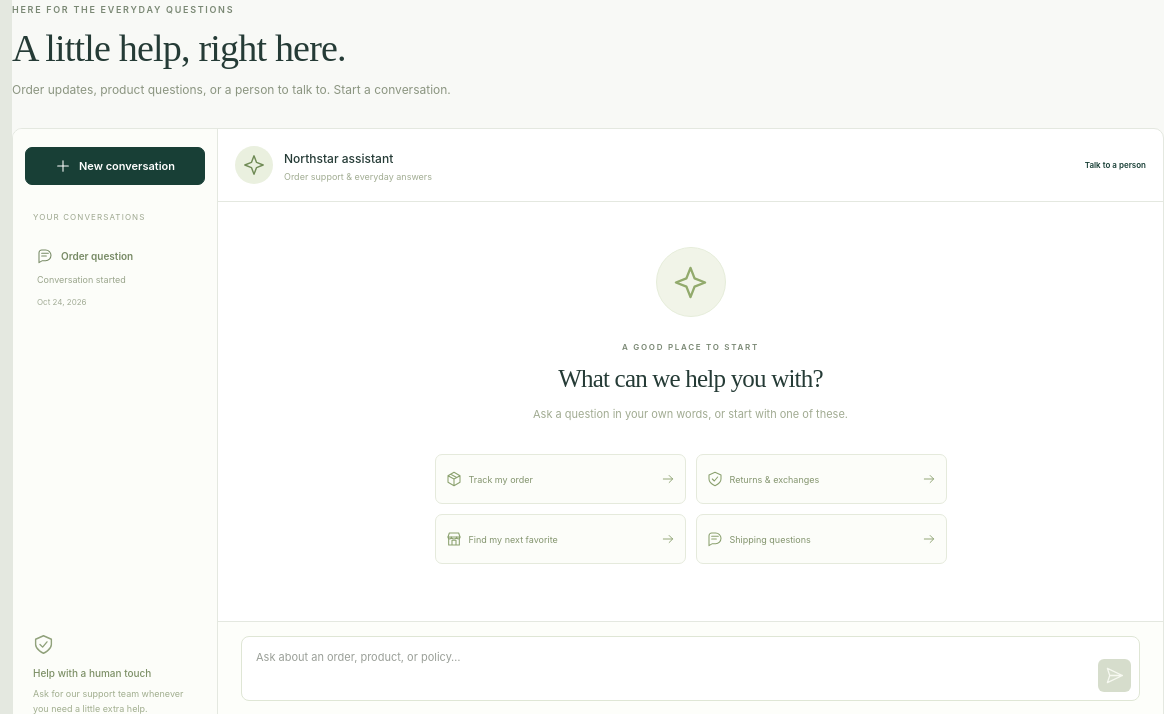
it: support conversation reliability › prevents new messages in a closed conversation and points to a new one
Click the button "Order question Conversation started Oct 24, 2026" at (115,277), box [25,234,205,321]
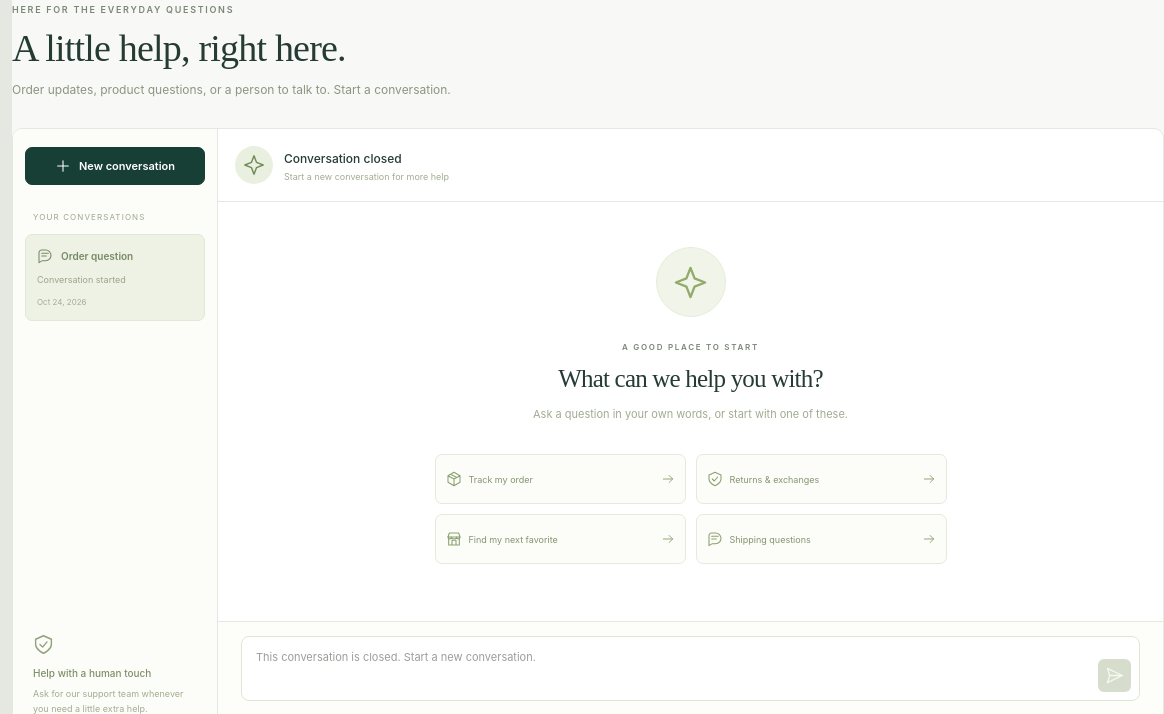
Check: the text "Conversation closed" is shown, box [284,151,402,166]
Check: the text box named "Message" is disabled, box [241,636,1140,701]
Check: the button "Talk to a person" is gone
Click the button "New conversation" at (115,166), box [25,147,205,185]
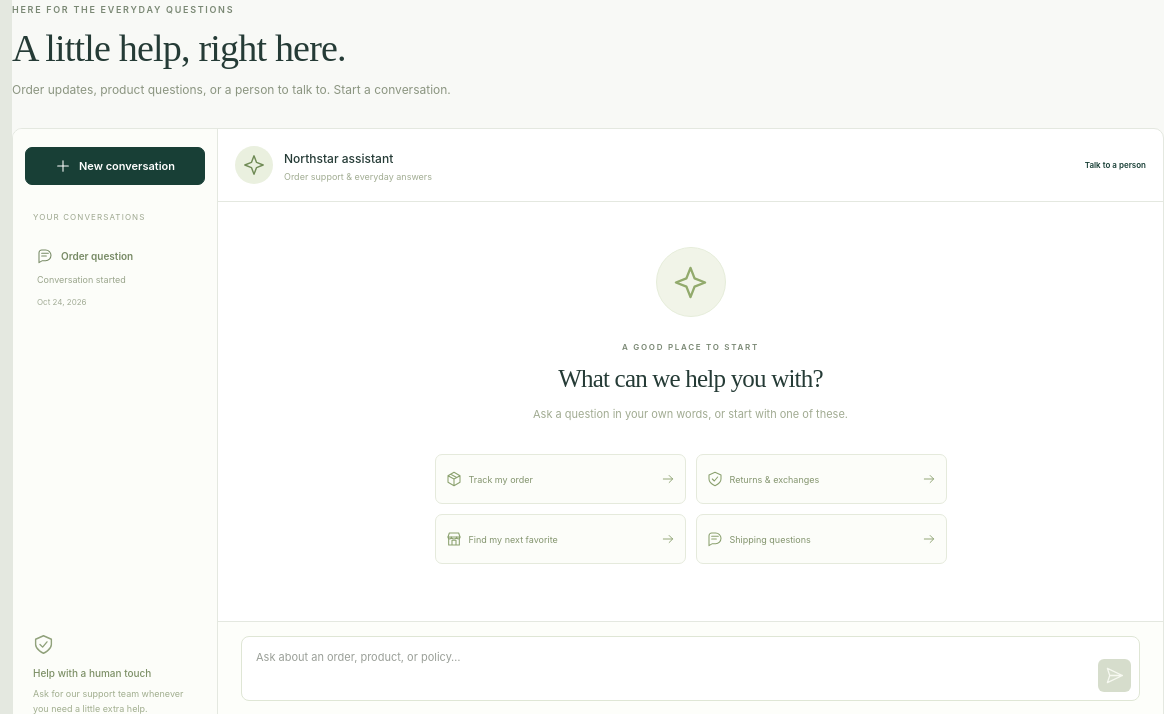
Check: the text box named "Message" is enabled, box [241,636,1140,701]
